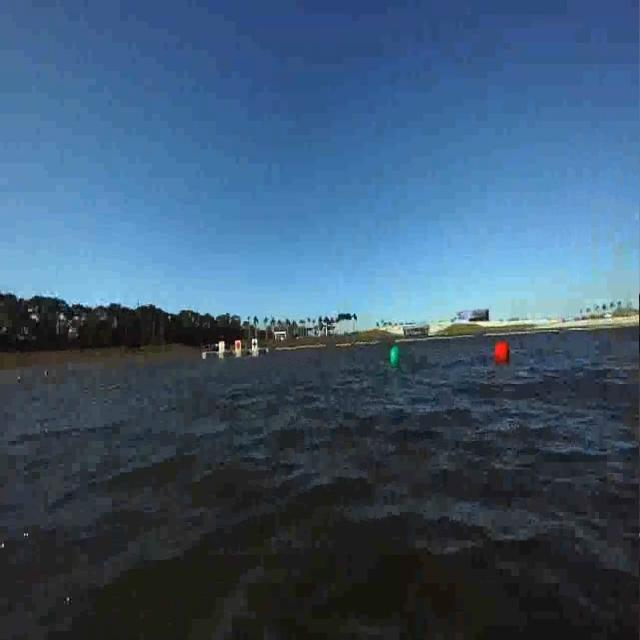green-buoy: (390, 345, 400, 366)
red-buoy: (494, 342, 510, 366)
